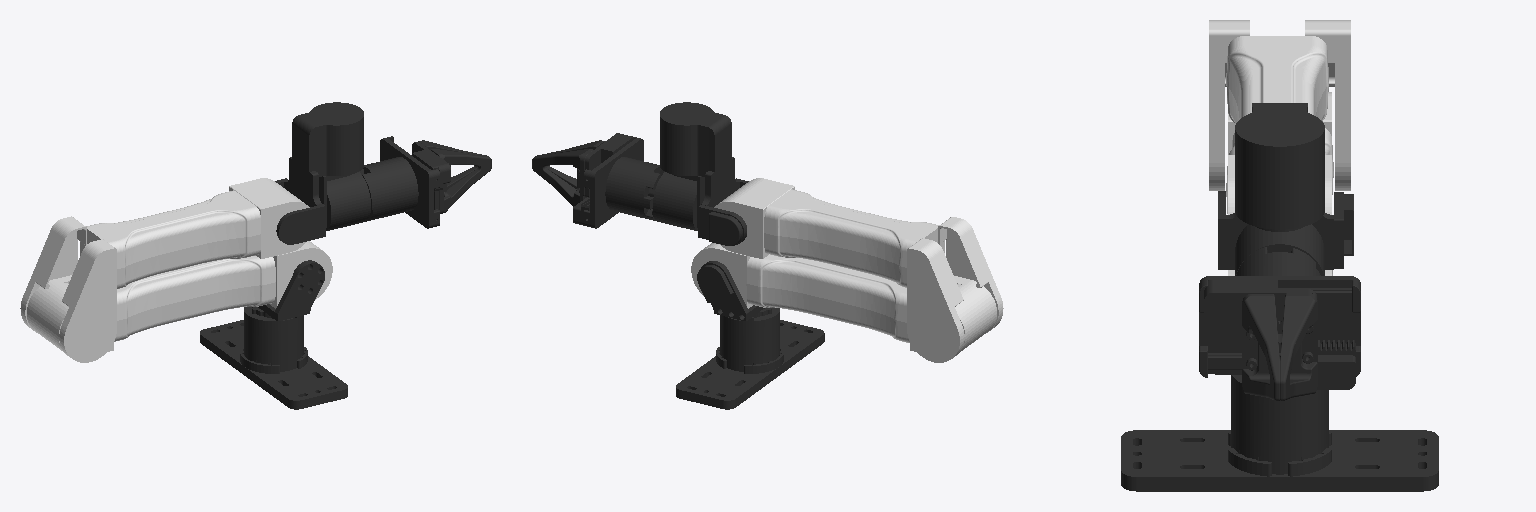
The robot description file, URDF, robot "yam":
<!--URDF generated by ONSHAPE BY PTC INC, 1.217-->
<robot name="yam">
    <link name="base">
        <inertial>
            <mass value="0.873654" />
            <origin xyz="-3.83908653914762e-05 2.40068589826393e-05 0.0247677998591499" rpy="0 1.5708 3.1415963267949" />
            <inertia ixx="0.00157059" ixy="-9.4753e-07" ixz="2.04071e-07" iyy="0.000678307" iyz="2.44292e-07" izz="0.00169404" />
        </inertial>
        <visual>
            <origin xyz="0.0374957408313106 0.0464006377298596 0.187501137731438" rpy="0 1.5708 3.1415963267949" />
            <geometry>
                <mesh filename="assets/base.stl" scale="1 1 1" />
            </geometry>
            <material name="yam_black">
                <color rgba="0.25 0.25 0.25 1" />
            </material>
        </visual>
        <collision>
            <origin xyz="0.0374957408313106 0.0464006377298596 0.187501137731438" rpy="0 1.5708 3.1415963267949" />
            <geometry>
                <mesh filename="assets/base.stl" scale="1 1 1" />
            </geometry>
        </collision>
    </link>
    <link name="gripper">
        <inertial>
            <mass value="0.553219" />
            <origin xyz="-3.57064e-05 0.000249371 -0.0293133" rpy="0 -0 0" />
            <inertia ixx="0.000409669" ixy="5.44941e-07" ixz="7.91268e-07" iyy="0.000324942" iyz="-4.83959e-06" izz="0.000369249" />
        </inertial>
        <visual>
            <origin xyz="-0.014 -0.0463995 0.0731" rpy="0 -0 0" />
            <geometry>
                <mesh filename="assets/gripper.stl" scale="1 1 1" />
            </geometry>
            <material name="yam_black">
                <color rgba="0.25 0.25 0.25 1" />
            </material>
        </visual>
        <collision>
            <origin xyz="-0.014 -0.0463995 0.0731" rpy="0 -0 0" />
            <geometry>
                <mesh filename="assets/gripper.stl" scale="1 1 1" />
            </geometry>
        </collision>
    </link>
    <link name="link1">
        <inertial>
            <mass value="0.101218" />
            <origin xyz="-0.0233636 -0.00172503 -0.00727828" rpy="0 -0 0" />
            <inertia ixx="0.000114689" ixy="-4.62759e-06" ixz="-1.3427e-05" iyy="4.76603e-05" iyz="-2.58724e-06" izz="0.000125996" />
        </inertial>
        <visual>
            <origin xyz="-0.119501 -0.0464 -0.0374968" rpy="0 -0 0" />
            <geometry>
                <mesh filename="assets/link1.stl" scale="1 1 1" />
            </geometry>
            <material name="yam_black">
                <color rgba="0.25 0.25 0.25 1" />
            </material>
        </visual>
        <collision>
            <origin xyz="-0.119501 -0.0464 -0.0374968" rpy="0 -0 0" />
            <geometry>
                <mesh filename="assets/link1.stl" scale="1 1 1" />
            </geometry>
        </collision>
    </link>
    <link name="link2">
        <inertial>
            <mass value="1.46908" />
            <origin xyz="0.000134495 -0.0331253 0.129165" rpy="0 -0 0" />
            <inertia ixx="0.0146686" ixy="-1.1067e-08" ixz="-4.33007e-07" iyy="0.014599" iyz="3.12564e-06" izz="0.000800089" />
        </inertial>
        <visual>
            <origin xyz="-0.0740001 -0.08025 -0.0174977" rpy="0 -0 0" />
            <geometry>
                <mesh filename="assets/link2.stl" scale="1 1 1" />
            </geometry>
            <material name="yam_white">
                <color rgba="0.9 0.9 0.9 1" />
            </material>
        </visual>
        <collision>
            <origin xyz="-0.0740001 -0.08025 -0.0174977" rpy="0 -0 0" />
            <geometry>
                <mesh filename="assets/link2.stl" scale="1 1 1" />
            </geometry>
        </collision>
    </link>
    <link name="link3">
        <inertial>
            <mass value="0.982553" />
            <origin xyz="-0.0556042 -0.0340514 -0.135083" rpy="0 -0 0" />
            <inertia ixx="0.00758945" ixy="4.36076e-06" ixz="-0.00064069" iyy="0.00763097" iyz="-1.09984e-05" izz="0.000937606" />
        </inertial>
        <visual>
            <origin xyz="-0.0740003 -0.0813 -0.281499" rpy="0 -0 0" />
            <geometry>
                <mesh filename="assets/link3.stl" scale="1 1 1" />
            </geometry>
            <material name="yam_white">
                <color rgba="0.9 0.9 0.9 1" />
            </material>
        </visual>
        <collision>
            <origin xyz="-0.0740003 -0.0813 -0.281499" rpy="0 -0 0" />
            <geometry>
                <mesh filename="assets/link3.stl" scale="1 1 1" />
            </geometry>
        </collision>
    </link>
    <link name="link4">
        <inertial>
            <mass value="0.462165" />
            <origin xyz="-0.0550959 0.032726 -0.0575534" rpy="0 -0 0" />
            <inertia ixx="0.000473594" ixy="3.00819e-05" ixz="-0.000238801" iyy="0.000764022" iyz="2.9261e-05" izz="0.000604492" />
        </inertial>
        <visual>
            <origin xyz="-0.0140003 -0.0125 -0.0364989" rpy="0 -0 0" />
            <geometry>
                <mesh filename="assets/link4.stl" scale="1 1 1" />
            </geometry>
            <material name="yam_black">
                <color rgba="0.25 0.25 0.25 1" />
            </material>
        </visual>
        <collision>
            <origin xyz="-0.0140003 -0.0125 -0.0364989" rpy="0 -0 0" />
            <geometry>
                <mesh filename="assets/link4.stl" scale="1 1 1" />
            </geometry>
        </collision>
    </link>
    <link name="link5">
        <inertial>
            <mass value="0.403307" />
            <origin xyz="0.0375847 -3.55003e-05 -0.000825911" rpy="0 -0 0" />
            <inertia ixx="0.000184284" ixy="2.10549e-07" ixz="1.29173e-05" iyy="0.000219791" iyz="-3.49657e-07" izz="0.000181053" />
        </inertial>
        <visual>
            <origin xyz="0.0265 -0.0463995 0.0375" rpy="0 -0 0" />
            <geometry>
                <mesh filename="assets/link5.stl" scale="1 1 1" />
            </geometry>
            <material name="yam_black">
                <color rgba="0.25 0.25 0.25 1" />
            </material>
        </visual>
        <collision>
            <origin xyz="0.0265 -0.0463995 0.0375" rpy="0 -0 0" />
            <geometry>
                <mesh filename="assets/link5.stl" scale="1 1 1" />
            </geometry>
        </collision>
    </link>
    <link name="tip_left">
        <inertial>
            <mass value="0.069657" />
            <origin xyz="0.014584 -0.042586 -0.0228318" rpy="0 -0 0" />
            <inertia ixx="5.14494e-05" ixy="1.10836e-05" ixz="1.00197e-05" iyy="4.99137e-05" iyz="-1.14425e-05" izz="4.79405e-05" />
        </inertial>
        <visual>
            <origin xyz="0.00999321 -0.0914614 0.129783" rpy="0 -0 0" />
            <geometry>
                <mesh filename="assets/tip_left.stl" scale="1 1 1" />
            </geometry>
            <material name="yam_black">
                <color rgba="0.25 0.25 0.25 1" />
            </material>
        </visual>
        <collision>
            <origin xyz="0.00999321 -0.0914614 0.129783" rpy="0 -0 0" />
            <geometry>
                <mesh filename="assets/tip_left.stl" scale="1 1 1" />
            </geometry>
        </collision>
    </link>
    <link name="tip_right">
        <inertial>
            <mass value="0.069657" />
            <origin xyz="-0.014584 0.042586 -0.0228318" rpy="0 -0 0" />
            <inertia ixx="5.14494e-05" ixy="1.10836e-05" ixz="-1.00197e-05" iyy="4.99137e-05" iyz="1.14425e-05" izz="4.79405e-05" />
        </inertial>
        <visual>
            <origin xyz="-0.0379932 -0.00133753 0.129783" rpy="0 -0 0" />
            <geometry>
                <mesh filename="assets/tip_right.stl" scale="1 1 1" />
            </geometry>
            <material name="yam_black">
                <color rgba="0.25 0.25 0.25 1" />
            </material>
        </visual>
        <collision>
            <origin xyz="-0.0379932 -0.00133753 0.129783" rpy="0 -0 0" />
            <geometry>
                <mesh filename="assets/tip_right.stl" scale="1 1 1" />
            </geometry>
        </collision>
    </link>
    <joint name="joint1" type="revolute">
        <origin xyz="-2.49777947129965e-07 -9.17402363407408e-13 0.0679999999995413" rpy="0 1.5708 3.1415963267949" />
        <axis xyz="-1 0 0" />
        <parent link="base" />
        <child link="link1" />
        <limit effort="1" velocity="1" lower="-2.61799" upper="3.14159" />
    </joint>
    <joint name="joint2" type="revolute">
        <origin xyz="-0.0455 -0.0339 -0.02" rpy="-1.7953e-16 5.55112e-17 -3.14159" />
        <axis xyz="3.58252e-15 1 -3.2007e-16" />
        <parent link="link1" />
        <child link="link2" />
        <limit effort="1" velocity="1" lower="-8.88178e-16" upper="3.66519" />
    </joint>
    <joint name="joint3" type="revolute">
        <origin xyz="4.08431e-07 -0.0688 0.264" rpy="-2.99502e-14 -1.6015e-14 -3.14159" />
        <axis xyz="4.54273e-15 1 1.04275e-14" />
        <parent link="link2" />
        <child link="link3" />
        <limit effort="1" velocity="1" lower="0" upper="3.14159" />
    </joint>
    <joint name="joint4" type="revolute">
        <origin xyz="-0.0600003 -0.0688 -0.244999" rpy="2.95536e-14 8.52374e-14 -2.10585e-14" />
        <axis xyz="0 1 0" />
        <parent link="link3" />
        <child link="link4" />
        <limit effort="1" velocity="1" lower="-1.69297" upper="1.5708" />
    </joint>
    <joint name="joint5" type="revolute">
        <origin xyz="-0.0405003 0.0338995 -0.0739989" rpy="2.73264e-14 -4.32956e-16 -8.32667e-17" />
        <axis xyz="1 0 0" />
        <parent link="link4" />
        <child link="link5" />
        <limit effort="1" velocity="1" lower="-1.5708" upper="1.5708" />
    </joint>
    <joint name="joint6" type="revolute">
        <origin xyz="0.0404996 2.39858e-07 -0.0356" rpy="8.83309e-16 -5.88588e-16 7.69861e-14" />
        <axis xyz="1.46014e-15 2.40808e-14 -1" />
        <parent link="link5" />
        <child link="gripper" />
        <limit effort="1" velocity="1" lower="-2.0944" upper="2.0944" />
    </joint>
    <joint name="joint7" type="prismatic">
        <origin xyz="-0.0239931 0.0445119 -0.0566829" rpy="1.02229e-14 4.71845e-16 1.68314e-15" />
        <axis xyz="6.86541e-15 1 0" />
        <parent link="gripper" />
        <child link="tip_left" />
        <limit effort="1" velocity="1" lower="-0.04695" upper="4.60927e-15" />
    </joint>
    <joint name="joint8" type="prismatic">
        <origin xyz="0.0239931 -0.0445119 -0.0566829" rpy="9.6084e-15 -2.77556e-16 -3.77189e-15" />
        <axis xyz="-6.86541e-15 -1 0" />
        <parent link="gripper" />
        <child link="tip_right" />
        <limit effort="1" velocity="1" lower="-0.04695" upper="0" />
    </joint>
</robot>

--- Facts derived from the render (not from the file) ---
3 views of the same robot in one strip: view 1: azimuth 30°, elevation 25°; view 2: azimuth 150°, elevation 25°; view 3: azimuth 270°, elevation 25° (orthographic).
Robot: yam — 9 links, 8 joints (6 revolute, 2 prismatic); root link base; default pose: every joint at zero.
Links seen in each view (by area): view 1: link3, link2, base, link4, gripper, link5, link1, tip_right, tip_left; view 2: link3, link2, base, link4, gripper, link5, tip_left, link1, tip_right; view 3: base, link3, link4, gripper, tip_left, tip_right, link5, link2.
Link boxes in pixels (left/top/right/bottom): link3: left=20, top=178, right=309, bottom=362; link2: left=27, top=241, right=332, bottom=351; base: left=200, top=307, right=347, bottom=409; link4: left=275, top=102, right=363, bottom=244; gripper: left=359, top=136, right=439, bottom=228; link5: left=319, top=172, right=370, bottom=230; link1: left=258, top=260, right=324, bottom=320; tip_right: left=431, top=149, right=491, bottom=213; tip_left: left=412, top=140, right=488, bottom=191; link3: left=714, top=178, right=1003, bottom=362; link2: left=691, top=243, right=996, bottom=351; base: left=676, top=308, right=824, bottom=409; link4: left=660, top=102, right=748, bottom=245; gripper: left=584, top=136, right=664, bottom=228; link5: left=648, top=172, right=704, bottom=230; tip_left: left=532, top=133, right=633, bottom=206; link1: left=697, top=261, right=764, bottom=320; tip_right: left=535, top=140, right=604, bottom=225; base: left=1121, top=375, right=1438, bottom=491; link3: left=1209, top=20, right=1350, bottom=214; link4: left=1218, top=103, right=1353, bottom=269; gripper: left=1199, top=247, right=1360, bottom=377; tip_left: left=1204, top=279, right=1317, bottom=400; tip_right: left=1242, top=294, right=1355, bottom=400; link5: left=1235, top=224, right=1324, bottom=275; link2: left=1228, top=92, right=1333, bottom=275.
Size in the robot's own frame: 0.5329 by 0.2 by 0.2717 metres.
Meshes: 9 distinct files referenced, 9 mesh visuals loaded (9 binary STL).
